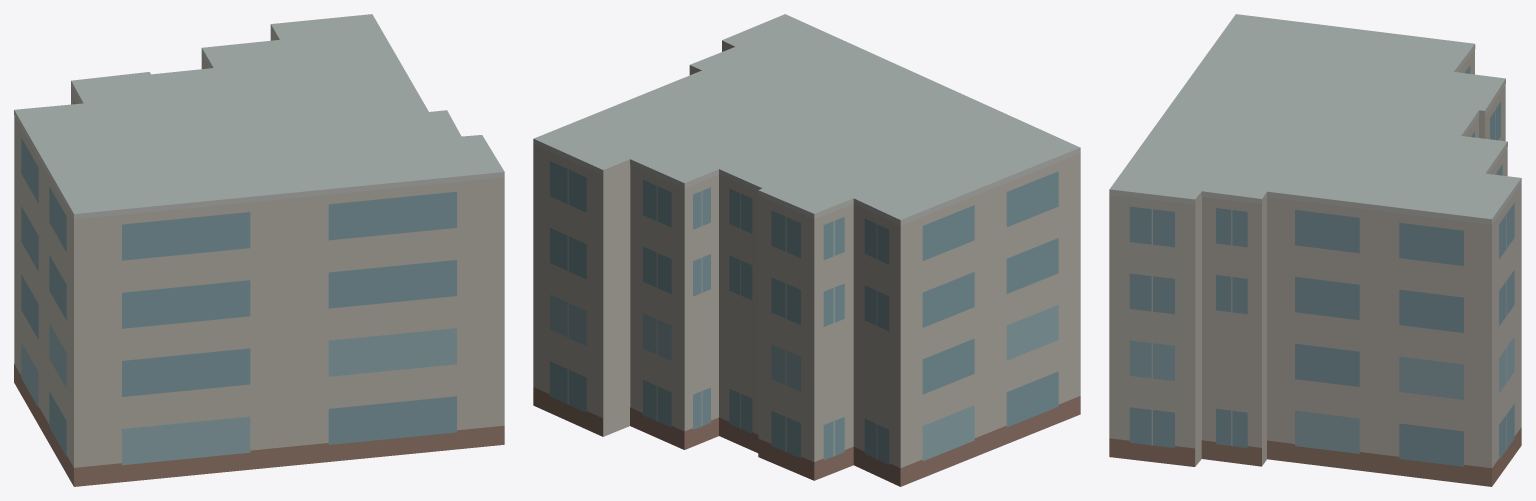
Rendered from survey-upis-32589570.glb.
3 views of the same model, side by side, from view 1: azimuth 30°, elevation 25°; view 2: azimuth 150°, elevation 25°; view 3: azimuth 270°, elevation 25° (orthographic). The views are drawn at different scales.
Visible parts, largest first — view 1: survey-upis-32589570.tmp; view 2: survey-upis-32589570.tmp; view 3: survey-upis-32589570.tmp.
Part boxes in pixels (x1,y1,x2,y2): survey-upis-32589570.tmp: (14,14,504,486); survey-upis-32589570.tmp: (533,14,1080,486); survey-upis-32589570.tmp: (1109,14,1521,486).
Bounding box in the file's own units: 19.91 × 12.1 × 16.9.
